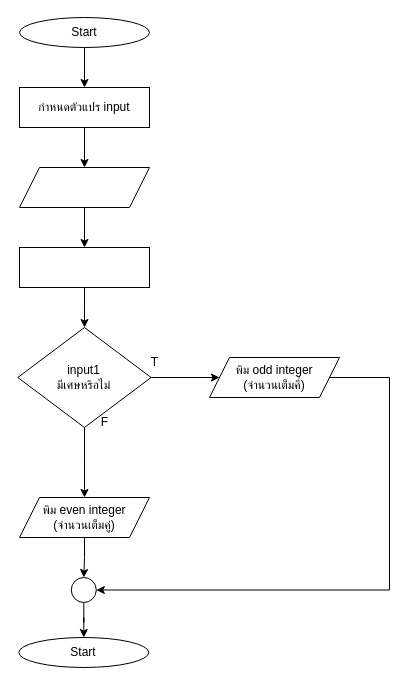
Image size: 415x685. Some labels were removed from this diagram. The centre of each missing label's shape, as x and y in pixels:
"กรอกค่า input" belongs at (84,187).
"คำ input ไปหาร 2" belongs at (84,267).
